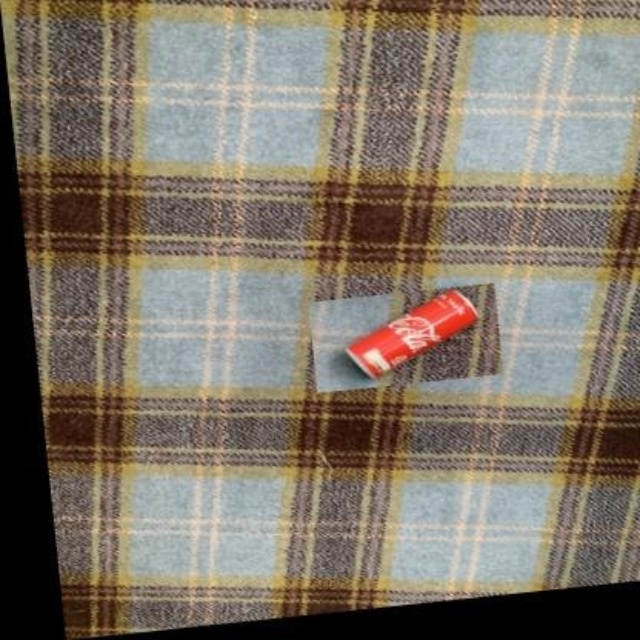trash: (346, 289, 477, 377)
